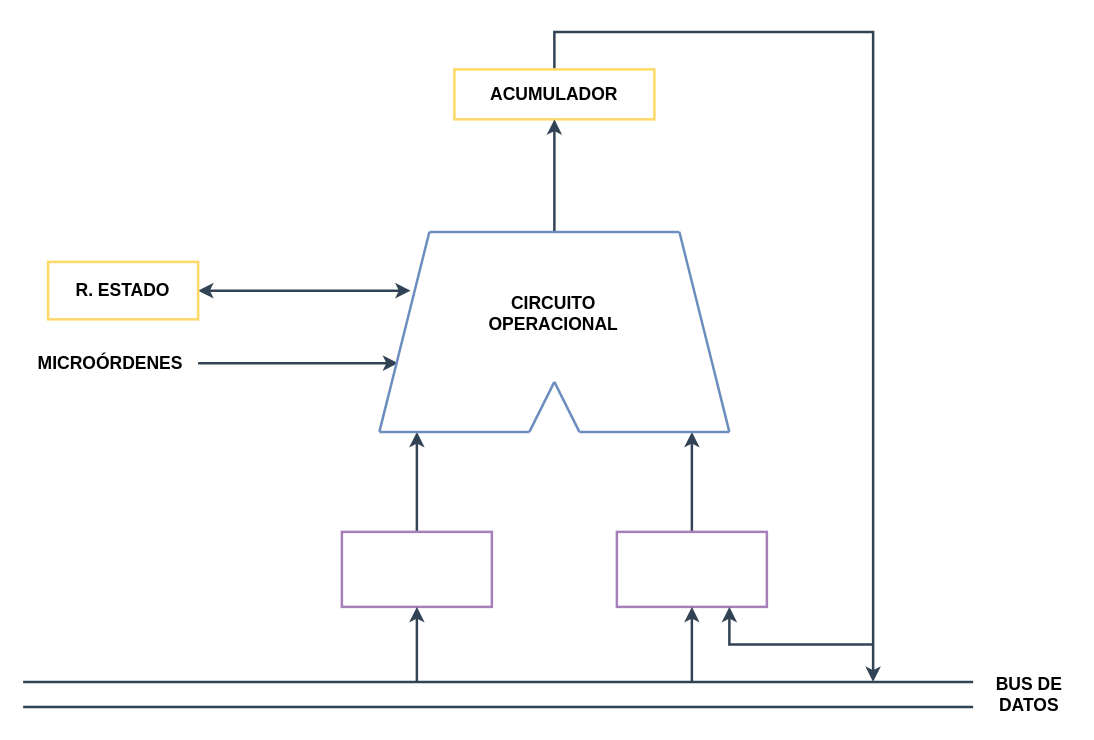
The diagram is 1094 pixels wide and 740 high, and some of its shapes have lost their labels. Each missing label, with the box of its shape:
REN 1: (615, 530, 768, 608)
REN 2: (340, 530, 492, 608)
